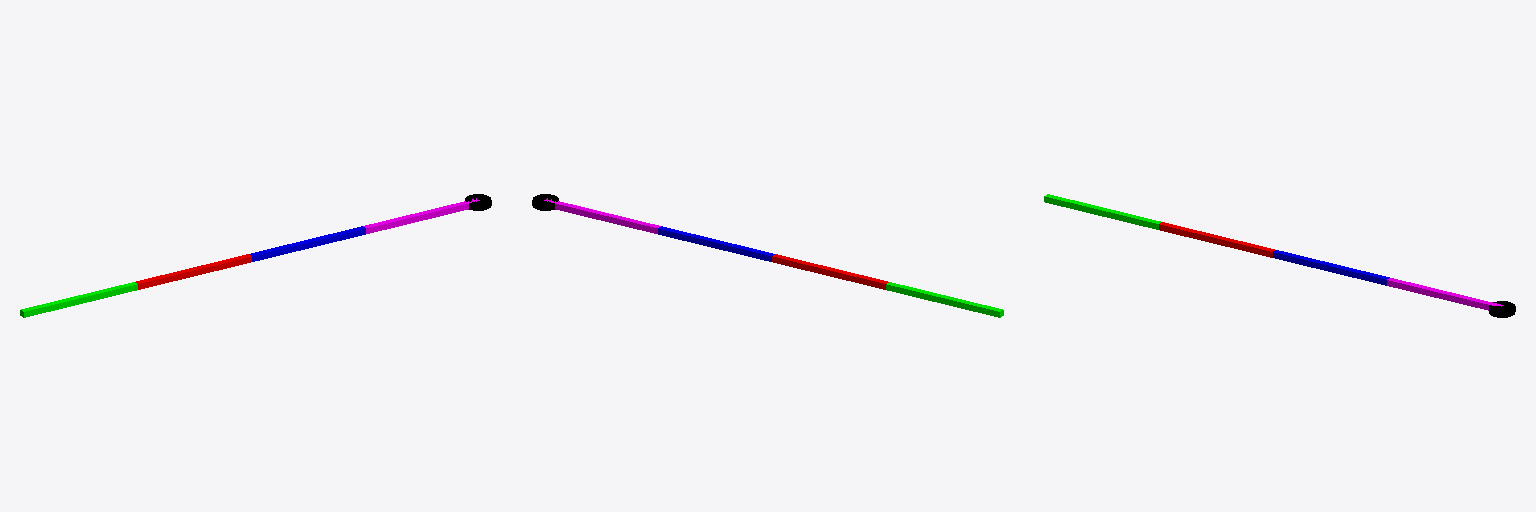
robot.urdf — box2D:
<robot name="box2D">
    
  <link name="baselink">
    <inertial>
      <origin rpy="0 0 0" xyz="0 0 0"/>
       <mass value="0"/>
       <inertia ixx="0" ixy="0" ixz="0" iyy="0" iyz="0" izz="0"/>
    </inertial>
  </link>

  <link name="link1">
    <inertial>
      <origin rpy="0 0 0" xyz="1.0 0 0"/>
       <mass value="0.5"/>
       <inertia ixx="0.0001" ixy="0" ixz="0" iyy="0.0001" iyz="0" izz="0.0001"/>
    </inertial>

    <visual>
      <origin rpy="0 0 0" xyz="1.0 0 0"/>
      <geometry>
        <box size="2 0.1 0.1" />      
      </geometry>     
      <material name="green">
        <color rgba="0 1 0 1"/>
      </material>
    </visual>
    
    <collision>
      <origin rpy="0 0 0" xyz="1.0 0 0"/>
      <geometry>
        <box size="2 0.1 0.1" />      
      </geometry>
    </collision>
  </link>


  <link name="link2">
    <inertial>
      <origin rpy="0 0 0" xyz="1.0 0 0"/>
       <mass value="0.5"/>
       <inertia ixx="0.0001" ixy="0" ixz="0" iyy="0.0001" iyz="0" izz="0.0001"/>
    </inertial>

    <visual>
      <origin rpy="0 0 0" xyz="1.0 0 0"/>
      <geometry>
        <box size="2 0.1 0.1" />      
      </geometry>
      <material name="red">
        <color rgba="1 0 0 1"/>
      </material>
    </visual>
    
    <collision>
      <origin rpy="0 0 0" xyz="1.0 0 0"/>
      <geometry>
        <box size="2 0.1 0.1" />      
      </geometry>
    </collision>
  </link>


  <link name="link3">
    <inertial>
      <origin rpy="0 0 0" xyz="1.0 0 0"/>
       <mass value="0.5"/>
       <inertia ixx="0.0001" ixy="0" ixz="0" iyy="0.0001" iyz="0" izz="0.0001"/>
    </inertial>

    <visual>
      <origin rpy="0 0 0" xyz="1.0 0 0"/>
      <geometry>
        <box size="2 0.1 0.1" />      
      </geometry>
      <material name="blue">
        <color rgba="0 0 1 1"/>
      </material>
    </visual>
    
    <collision>
      <origin rpy="0 0 0" xyz="1.0 0 0"/>
      <geometry>
        <box size="2 0.1 0.1" />      
      </geometry>
    </collision>
  </link>


  <link name="link4">
    <inertial>
      <origin rpy="0 0 0" xyz="1.0 0 0"/>
       <mass value="0.5"/>
       <inertia ixx="0.0001" ixy="0" ixz="0" iyy="0.0001" iyz="0" izz="0.0001"/>
    </inertial>

    <visual>
      <origin rpy="0 0 0" xyz="1.0 0 0"/>
      <geometry>
        <box size="2 0.1 0.1" />      
      </geometry>
      <material name="purple">
        <color rgba="1 0 1 1"/>
      </material>
    </visual>
    
    <collision>
      <origin rpy="0 0 0" xyz="1.0 0 0"/>
      <geometry>
        <box size="2 0.1 0.1" />      
      </geometry>
    </collision>
  </link>


  <link name="link5">
    <inertial>
      <origin rpy="0 0 0" xyz="0 0 0"/>
       <mass value="0.5"/>
       <inertia ixx="0.0001" ixy="0" ixz="0" iyy="0.0001" iyz="0" izz="0.0001"/>
    </inertial>

    <visual>
      <origin rpy="0 0 0" xyz="0 0 0"/>
      <geometry>
        <cylinder radius="0.2" length="0.1"/>
      </geometry>
      <material name="black">
        <color rgba="0 0 0 1"/>
      </material>
    </visual>
    
    <collision>
      <origin rpy="0 0 0" xyz="0 0 0"/>
      <geometry>
        <cylinder radius="0.2" length="0.1"/>
      </geometry>
    </collision>
  </link>



  <joint name = "joint1" type = "revolute">
    <origin xyz = "0.0 0.0 0.0" rpy = "0 0 0"/> 
    <parent link = "baselink" />
    <child link= "link1"/>
    <axis xyz = "0 0 1" />
    <limit effort="1.0" lower="-10000" upper="10000" velocity="10000" />
    <dynamics damping = "0.0" friction="0.0" />
  </joint>

  <joint name = "joint2" type = "revolute">
    <origin xyz = "2.0 0.0 0.0" rpy = "0 0 0"/> 
    <parent link = "link1" />
    <child link= "link2"/>
    <axis xyz = "0 0 1" />
    <limit effort="1.0" lower="-10000" upper="10000" velocity="10000" />
    <dynamics damping = "0.0" friction="0.0" />
  </joint> 

  <joint name = "joint3" type = "revolute">
    <origin xyz = "2.0 0.0 0.0" rpy = "0 0 0"/> 
    <parent link = "link2" />
    <child link= "link3"/>
    <axis xyz = "0 0 1" />
    <limit effort="1.0" lower="-10000" upper="10000" velocity="10000" />
    <dynamics damping = "0.0" friction="0.0" />
  </joint> 

  <joint name = "joint4" type = "revolute">
    <origin xyz = "2.0 0.0 0.0" rpy = "0 0 0"/> 
    <parent link = "link3" />
    <child link= "link4"/>
    <axis xyz = "0 0 1" />
    <limit effort="1.0" lower="-10000" upper="10000" velocity="10000" />
    <dynamics damping = "0.0" friction="0.0" />
  </joint> 

  <joint name = "joint5" type = "fixed">
    <origin xyz = "2.0 0.0 0.0" rpy = "0 0 0"/> 
    <parent link = "link4" />
    <child link= "link5"/>
    <axis xyz = "0 0 1" />
    <limit effort="1.0" lower="-10000" upper="10000" velocity="10000" />
    <dynamics damping = "0.0" friction="0.0" />
  </joint> 

    
</robot>

--- What the picture shows (computed from the rendered views, not written in the file) ---
3 views of the same robot in one strip: view 1: azimuth 30°, elevation 25°; view 2: azimuth 150°, elevation 25°; view 3: azimuth 330°, elevation 25° (orthographic).
Model box2D with 6 links and 5 joints (4 revolute, 1 fixed), rooted at baselink, posed all joints at 0.
Links seen in each view (by area): view 1: link1, link3, link2, link4; view 2: link1, link3, link2, link4; view 3: link1, link3, link2, link4.
Link boxes in pixels (left/top/right/bottom): link1: left=20, top=282, right=137, bottom=317; link3: left=249, top=226, right=365, bottom=261; link2: left=135, top=254, right=251, bottom=289; link4: left=363, top=198, right=479, bottom=233; link1: left=886, top=282, right=1003, bottom=317; link3: left=658, top=226, right=774, bottom=261; link2: left=772, top=254, right=888, bottom=289; link4: left=544, top=198, right=660, bottom=233; link1: left=1044, top=194, right=1160, bottom=229; link3: left=1273, top=250, right=1389, bottom=285; link2: left=1159, top=222, right=1274, bottom=257; link4: left=1387, top=278, right=1503, bottom=310.
Size in the robot's own frame: 8.2 by 0.4 by 0.1 metres.
Geometry: primitives only (box / cylinder / sphere), no mesh files.
